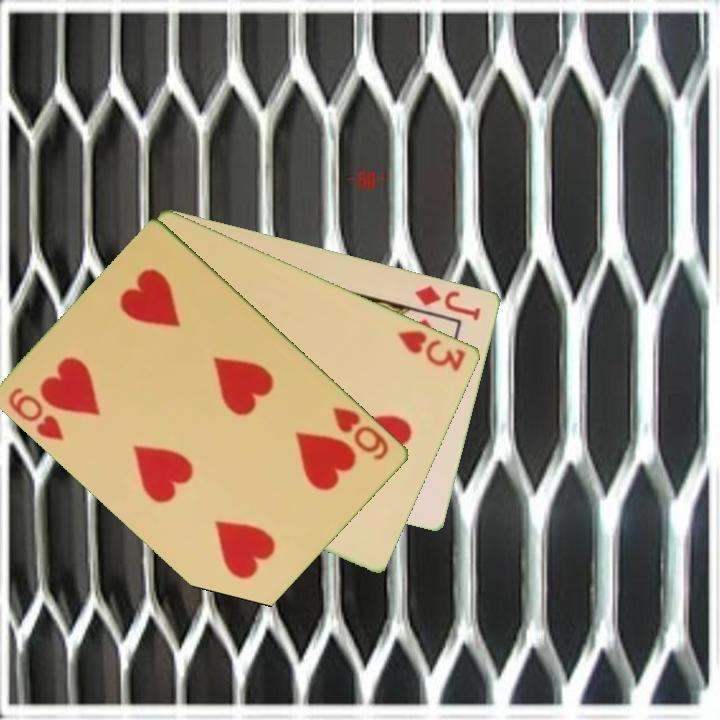3h: (395, 326, 469, 375)
6h: (5, 383, 68, 444), (329, 403, 393, 463)
Jd: (412, 281, 484, 324)
